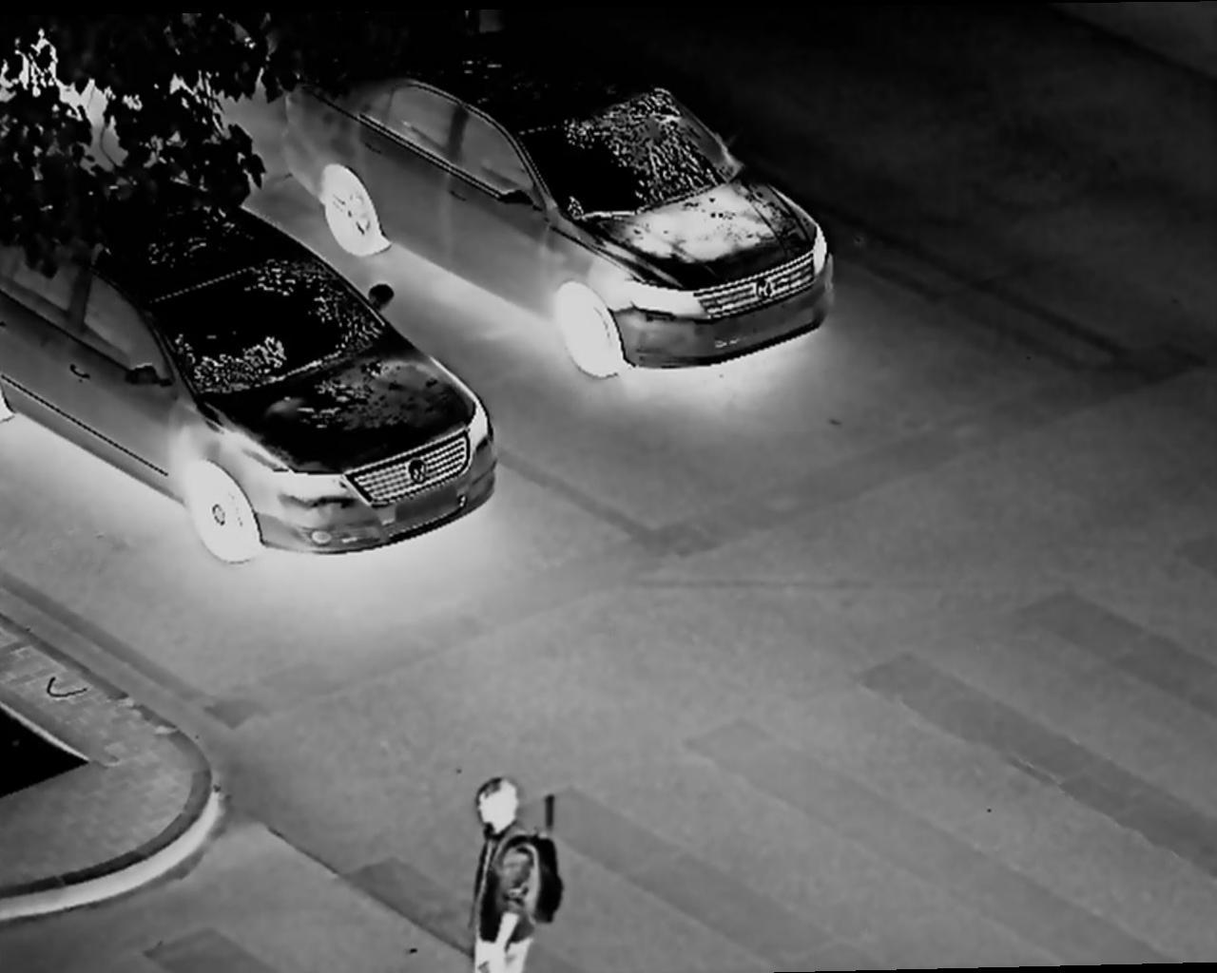person: (437, 771, 568, 973)
